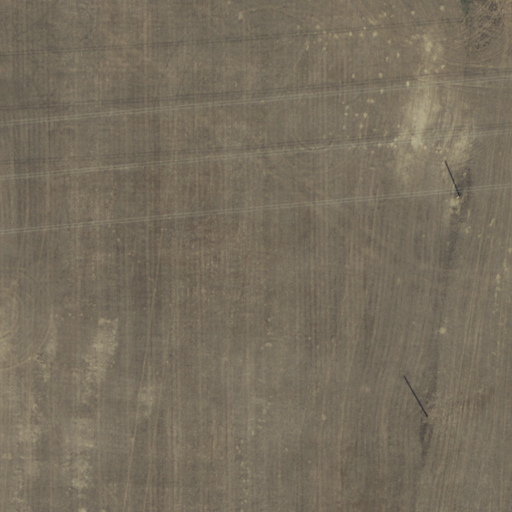DT: (416, 406, 440, 426), (449, 182, 469, 204)
